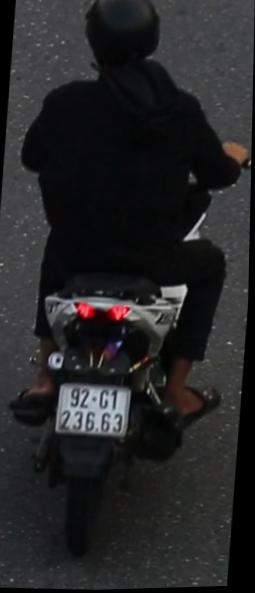LP: (52, 375, 136, 444)
helmet: (80, 0, 165, 83)
